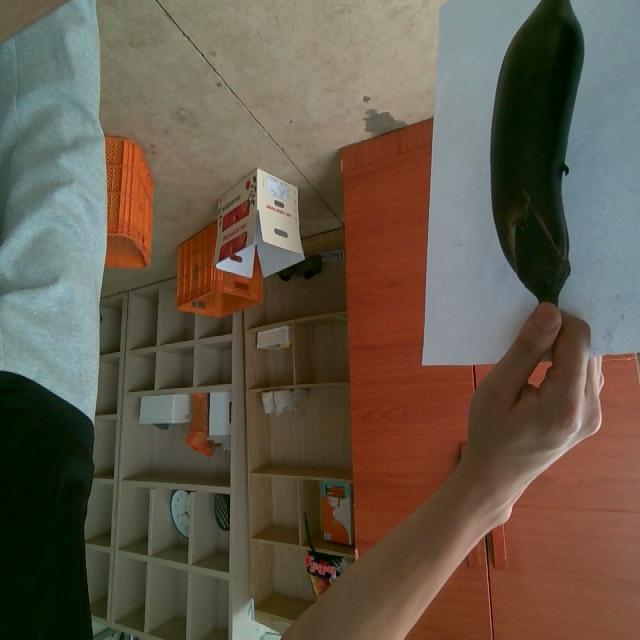Egg plant: (492, 3, 584, 305)
